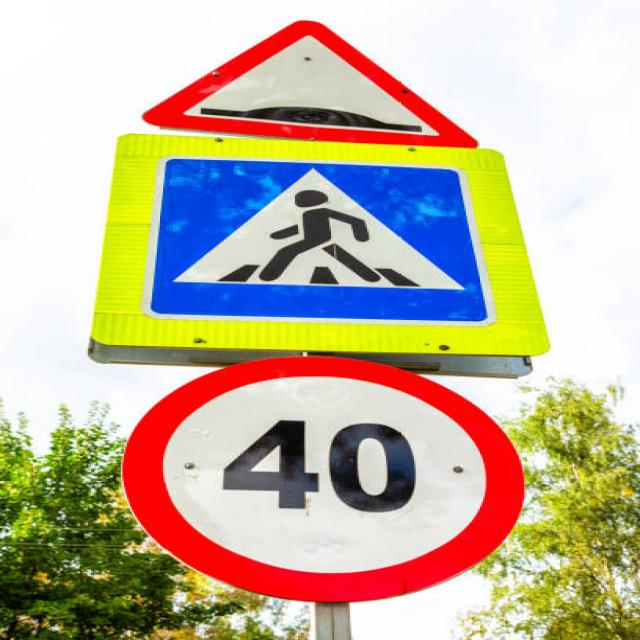crosswalk: (133, 148, 497, 326)
